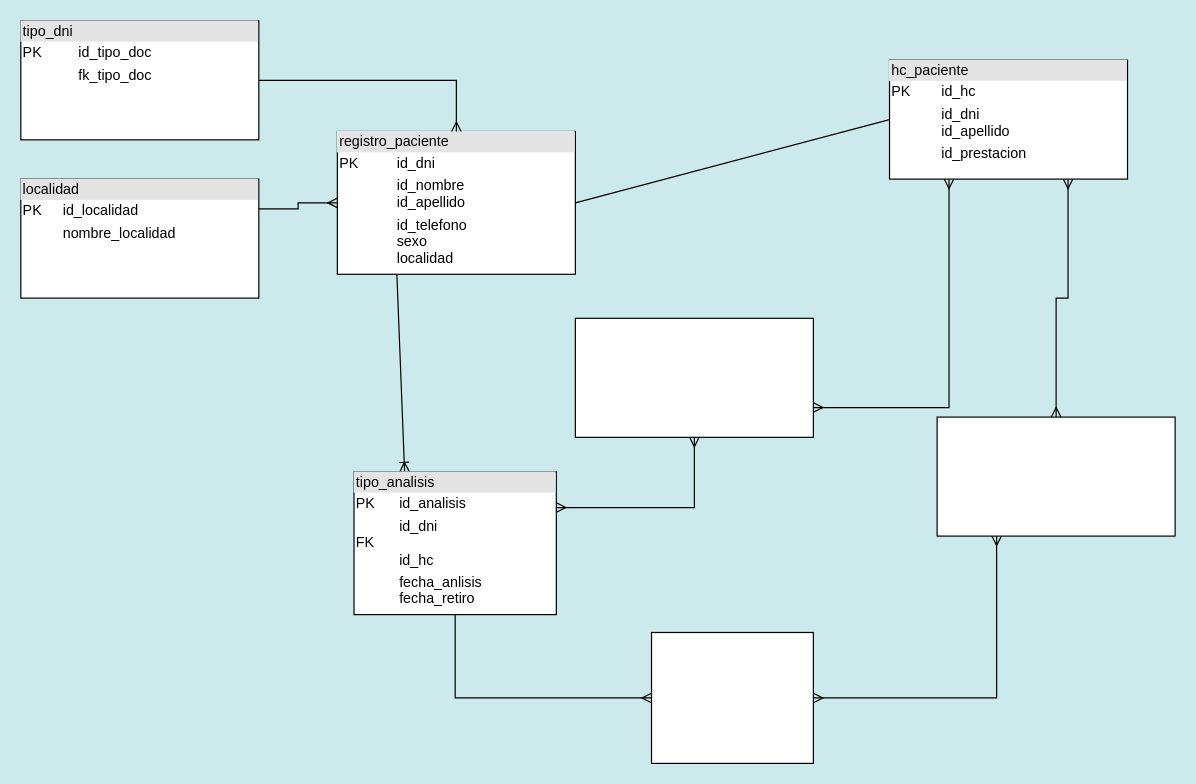
Image size: 1196x784. Some labels were removed from this diagram. The shapes that lost their labels are listed below. From the top down, each one's centre as x and y in pixels, then its label:
At point (693, 377): "analisis_paciente PK id_analisis id_prestacion FK id_hc".
At point (1055, 476): "usuario_administ PK id_dni nombre_usuario contraseña FK id_login".
At point (731, 697): "analisis_administ PK Id Id_login FK id_analisis FK fecha".
